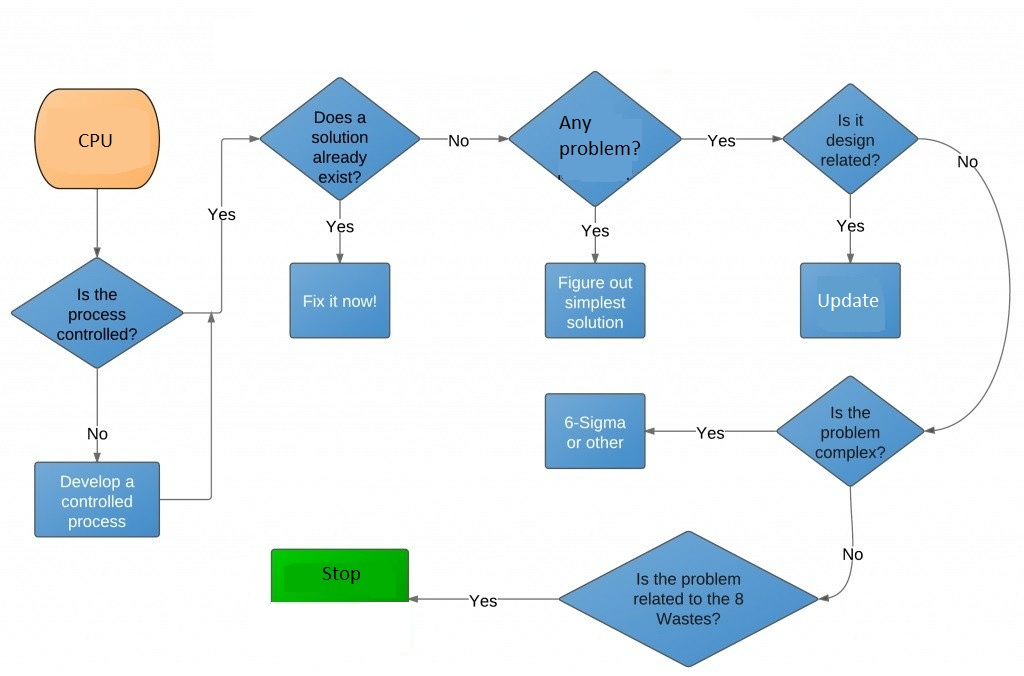arrow: (917, 134, 1017, 438), (181, 131, 262, 316), (158, 309, 218, 501), (818, 482, 859, 604), (408, 592, 565, 606), (644, 423, 774, 438), (90, 363, 108, 462), (89, 186, 107, 258), (677, 132, 785, 144), (843, 191, 857, 262), (420, 133, 508, 144), (589, 202, 601, 264), (335, 195, 345, 263)
decision: (558, 528, 827, 668), (501, 66, 682, 208), (260, 77, 426, 204), (10, 255, 187, 370), (770, 374, 933, 487), (780, 78, 921, 198)
process: (31, 457, 164, 543), (541, 390, 652, 474), (267, 544, 414, 606), (541, 259, 650, 342), (796, 259, 905, 341), (287, 261, 397, 342)
terminator: (32, 84, 165, 193)
text: (629, 569, 748, 629), (55, 286, 140, 345), (55, 472, 140, 529), (554, 271, 634, 331), (310, 109, 370, 187), (554, 111, 643, 161), (815, 405, 886, 463), (818, 112, 881, 171), (559, 411, 630, 452), (298, 290, 380, 311), (815, 289, 883, 314), (320, 563, 365, 587), (76, 128, 114, 151), (694, 420, 727, 442), (832, 215, 866, 234), (205, 203, 237, 223), (323, 217, 358, 235), (465, 592, 500, 608), (444, 129, 470, 150), (705, 130, 736, 147), (578, 221, 608, 238), (955, 152, 982, 170), (84, 426, 111, 441), (840, 545, 863, 562)
